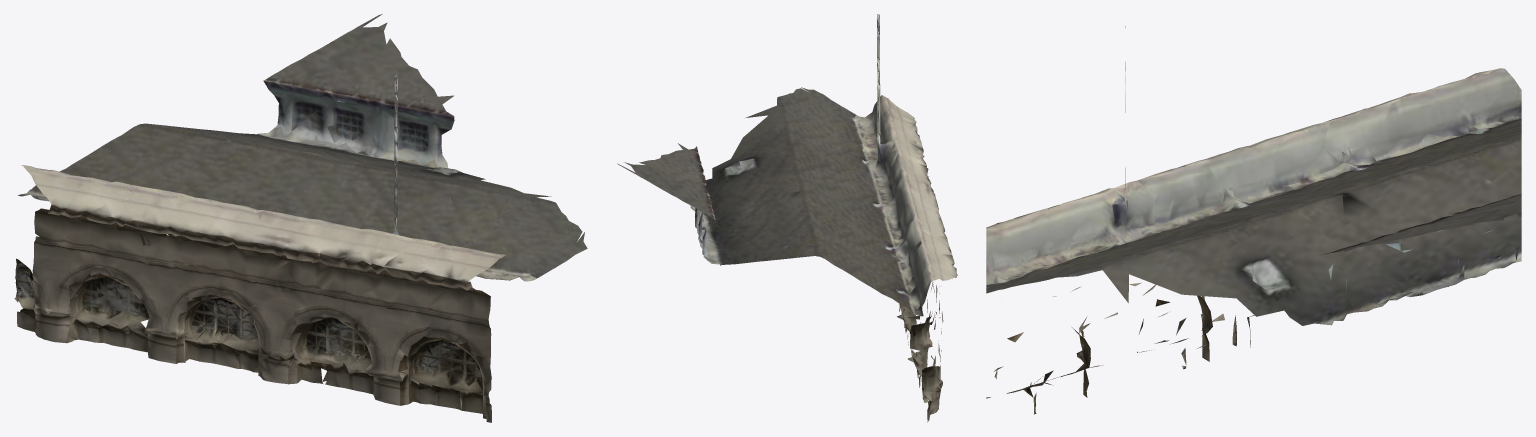
3 renders of one model, left to right at view 1: azimuth 30°, elevation 25°; view 2: azimuth 150°, elevation 25°; view 3: azimuth 270°, elevation 25°, orthographic. The views are drawn at different scales.
Bounding box in the file's own units: 15.42 × 12.34 × 15.64.
1 material, 1 textured.
